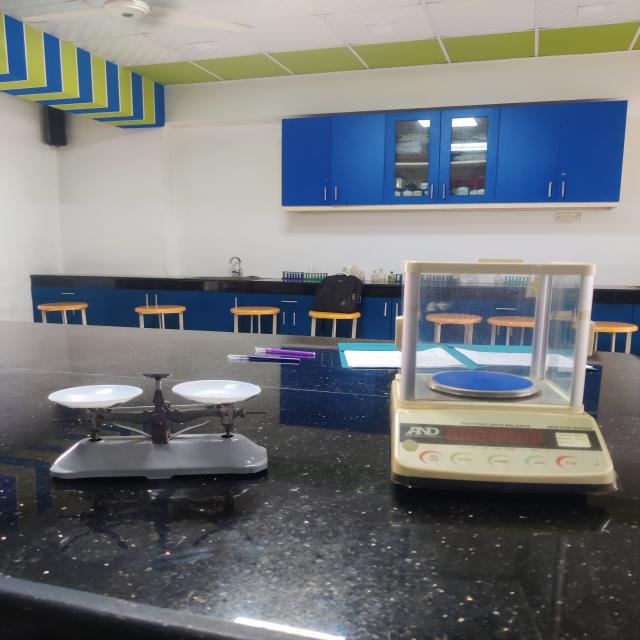Mechanical_Balance_Scale: (37, 331, 307, 536)
Precision_Weight_Scale: (350, 224, 640, 531)
